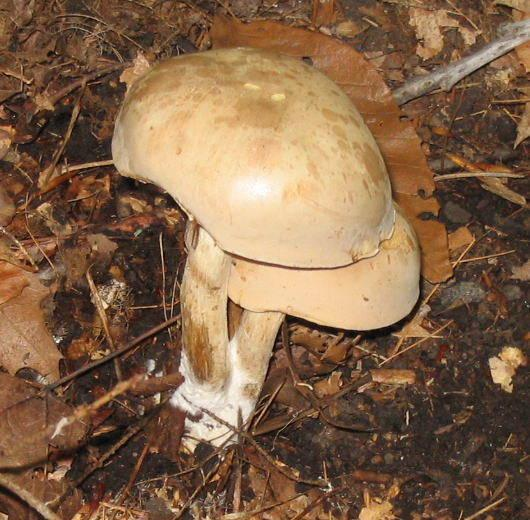Edible Mushroom: (109, 44, 422, 458)
